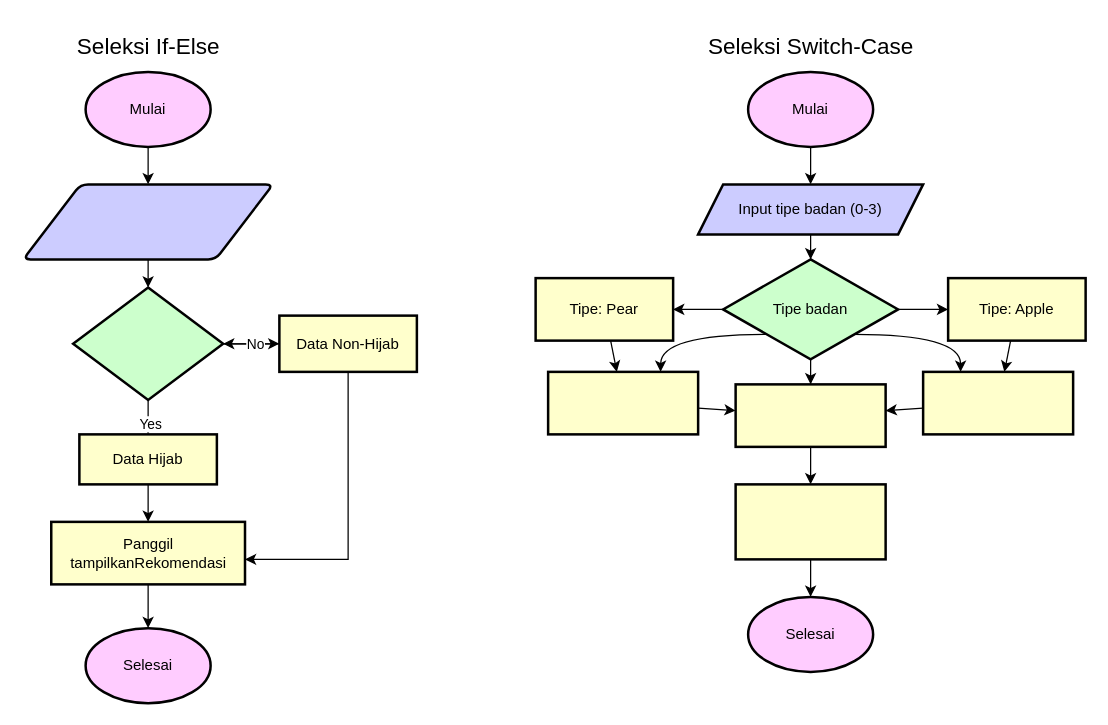
Some shapes in this 1108 by 725 pixel diagram are drawn without their labels. Each missing label, with the box of its shape:
Apakah pilihan == 1: (71, 286, 224, 401)
Input pilihan gaya pakaian (1/2): (21, 182, 274, 260)
Simpan deklarasi ke variable: (734, 482, 886, 560)
Tipe tidak diketahui: (734, 382, 886, 448)
Tipe: Hourglass: (546, 370, 699, 435)
Tipe: Rectangle: (921, 370, 1074, 435)
